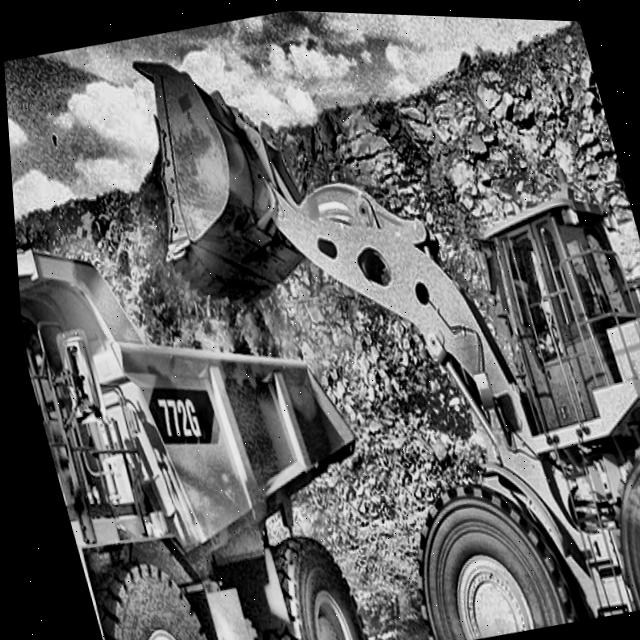buldozerpayloadergrader: (93, 3, 640, 640)
dump_truck: (9, 179, 392, 640)
